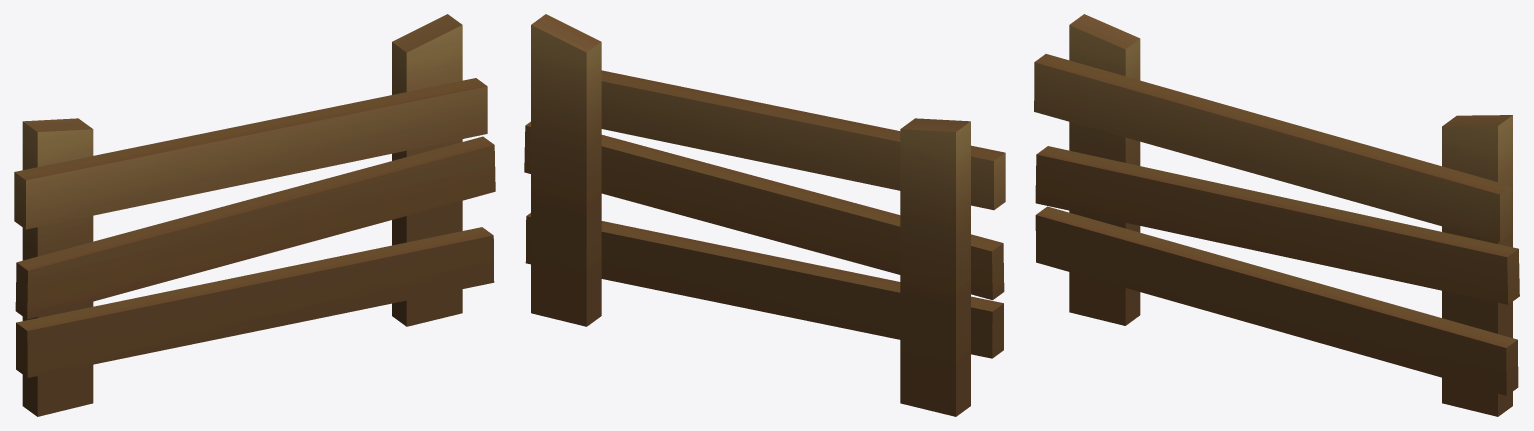
The model's file is pack04_fences_03.fbx.
3 views of the same model, side by side, from view 1: azimuth 30°, elevation 25°; view 2: azimuth 150°, elevation 25°; view 3: azimuth 330°, elevation 25° (orthographic).
Visible parts, largest first — view 1: Big_Fence_06; view 2: Big_Fence_06; view 3: Big_Fence_06.
Boxes of the visible parts, left/top/right/bottom form: Big_Fence_06: left=14, top=14, right=495, bottom=416; Big_Fence_06: left=524, top=14, right=1005, bottom=416; Big_Fence_06: left=1034, top=14, right=1519, bottom=416.
Bounding box in the file's own units: 87.66 × 51.42 × 8.52.
1 material, 1 textured.
